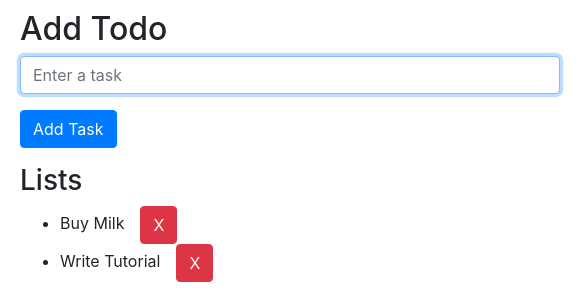
Test: Form › deletes a todo
Click the button with class "btn-danger" next to "Buy Milk".
click(159, 225)  # box [140, 206, 177, 244]
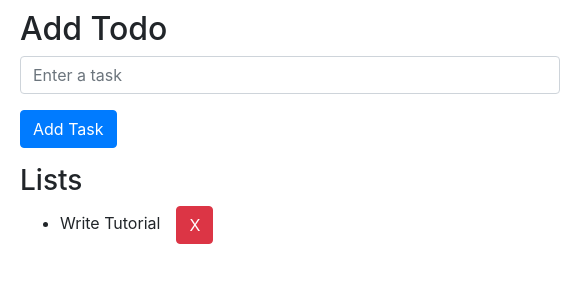
expect the number of list items is 1: met, box [60, 206, 213, 244]
